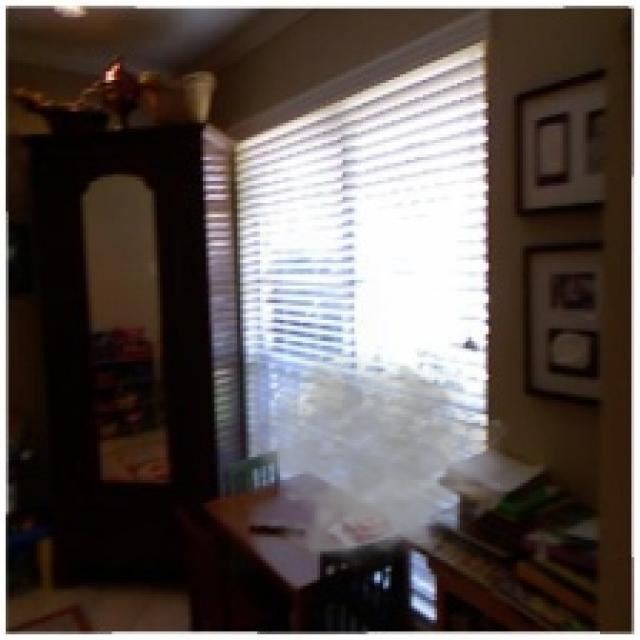smoke: (243, 354, 514, 574)
